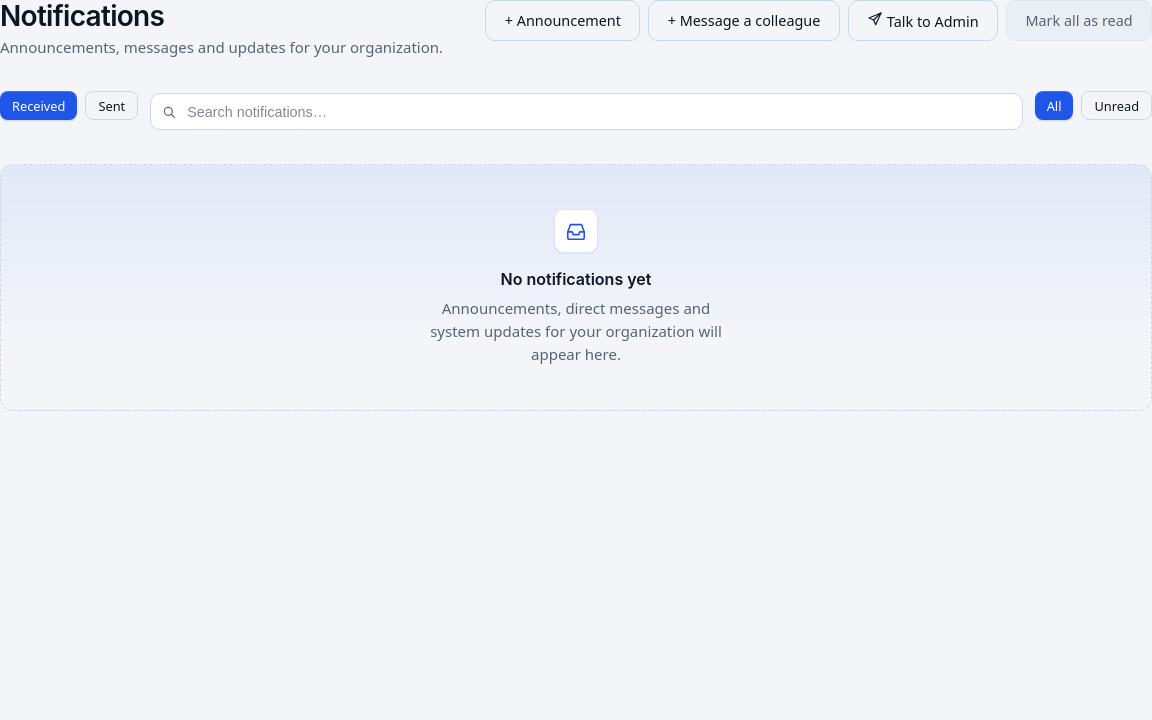
NotificationsPage › sends an announcement to everyone
The width and height of the screenshot is (1152, 720).
Expected: the text "No notifications yet" is shown, [501,267,652,292]
Click the button "+ Announcement".
click(563, 21)  # box [485,0,640,41]
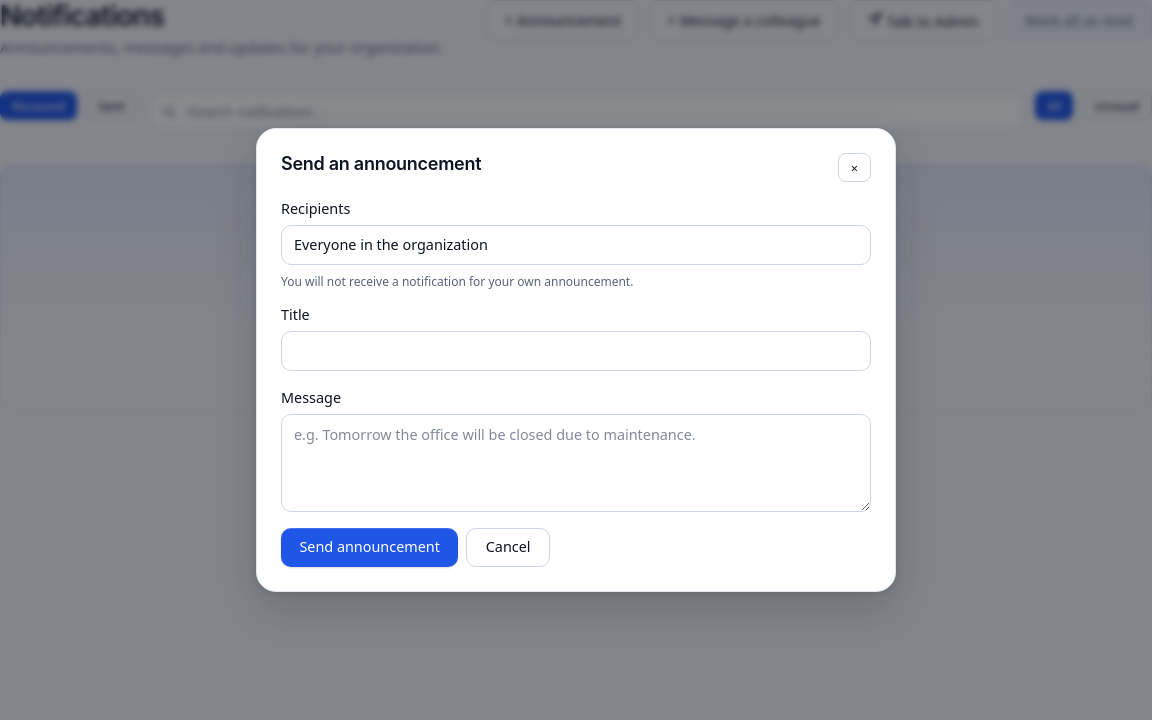
Type "Holiday" into the field labelled "Title".
click(576, 351); type("Holiday")  # box [281,331,871,371]
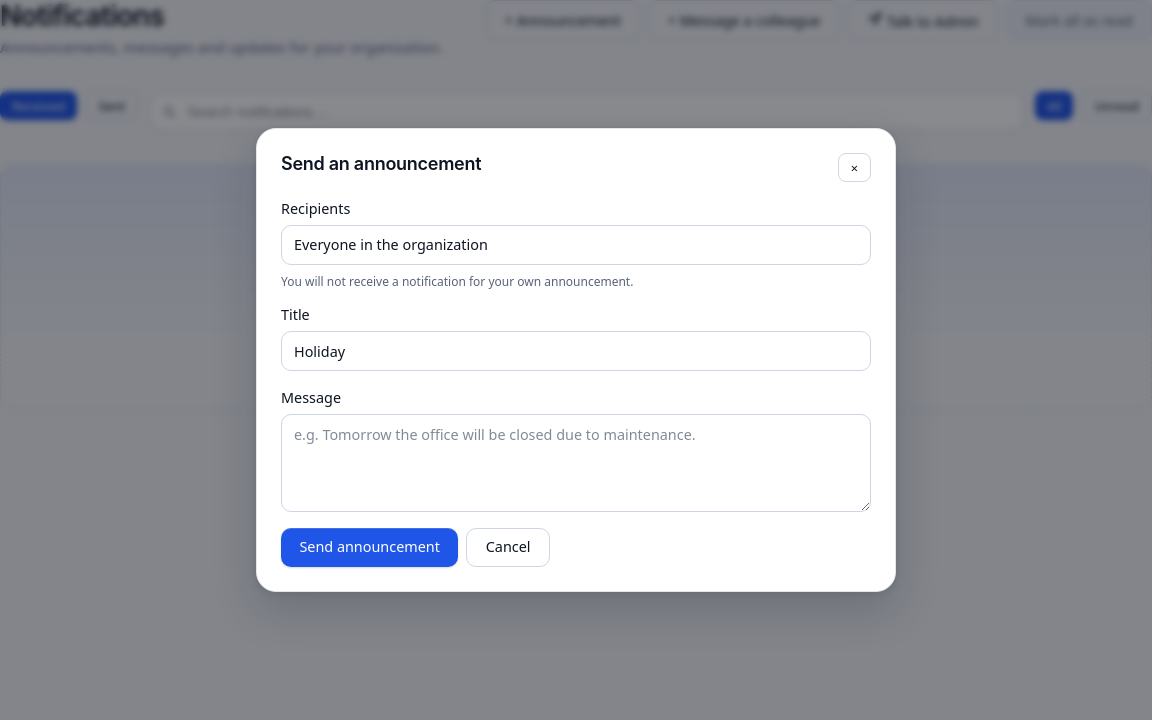
Type "Office closed Monday." into the text box labelled "Message".
click(576, 463); type("Office closed Monday.")  # box [281,414,871,512]
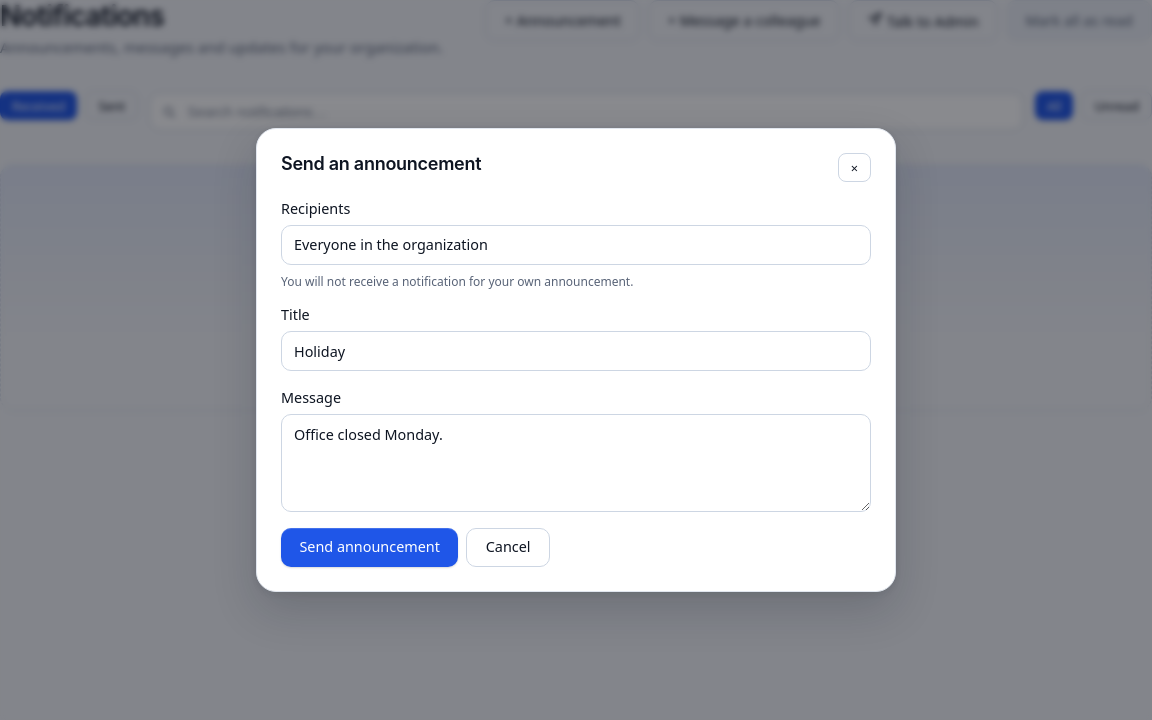
Click the button "Send announcement".
click(370, 547)  # box [281,528,458,567]
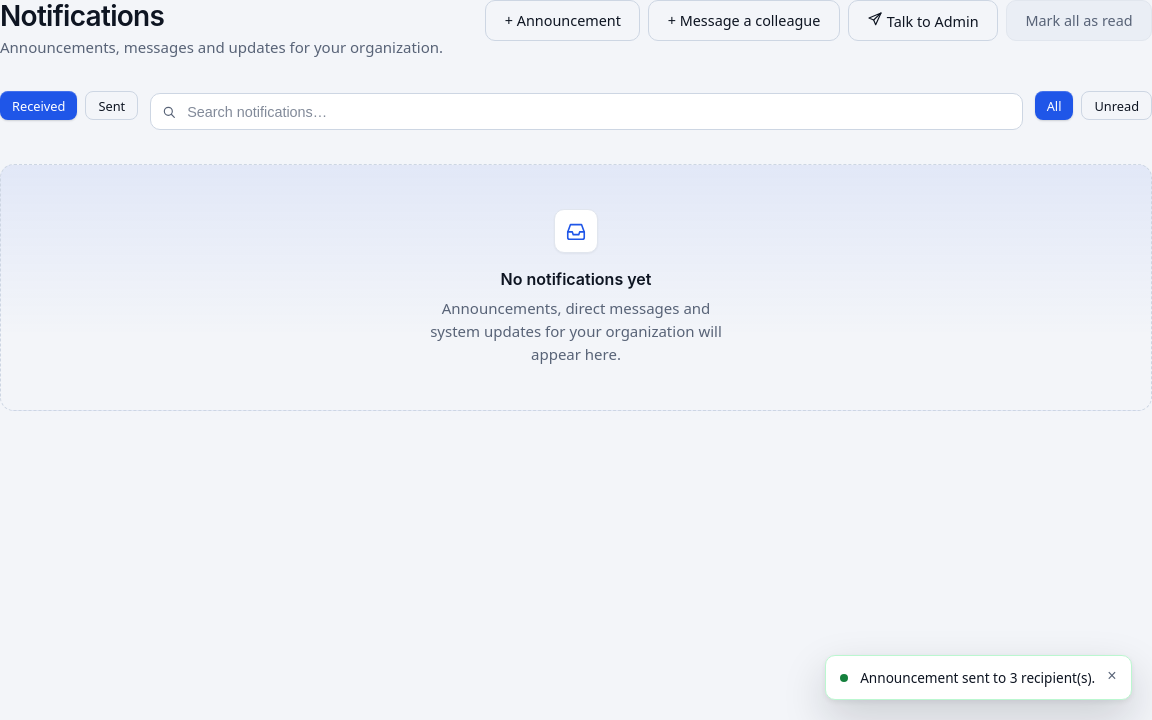
Result: the text "Announcement sent to 3 recipient(s)." is shown at [860,668,1095,687]
